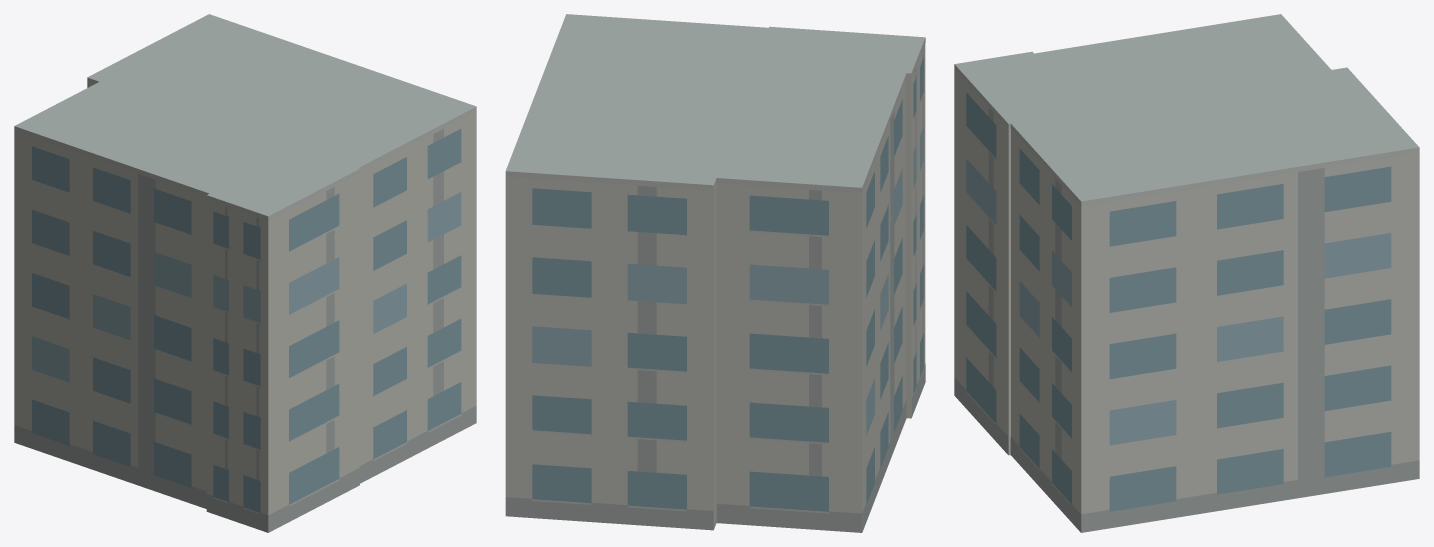
File: survey-upis-32840016.glb
3 renders of one model, left to right at view 1: azimuth 30°, elevation 25°; view 2: azimuth 150°, elevation 25°; view 3: azimuth 270°, elevation 25°, orthographic. The views are drawn at different scales.
Parts seen in each view (by area): view 1: survey-upis-32840016.tmp; view 2: survey-upis-32840016.tmp; view 3: survey-upis-32840016.tmp.
Part boxes in pixels (x1,y1,x2,y2): survey-upis-32840016.tmp: (14, 14, 476, 532); survey-upis-32840016.tmp: (505, 14, 925, 532); survey-upis-32840016.tmp: (954, 14, 1419, 532).
Size of the model in its own units: 18.51 by 15.25 by 19.41.
